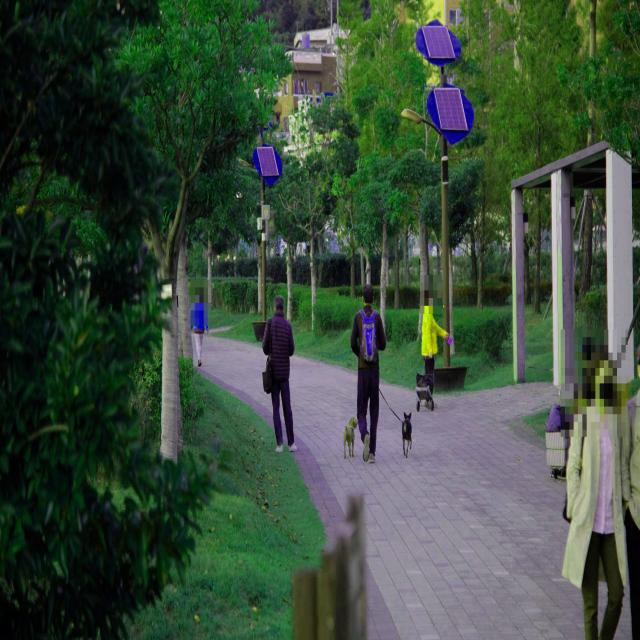Leashed_Dog: (372, 388, 412, 459), (343, 386, 368, 459)
